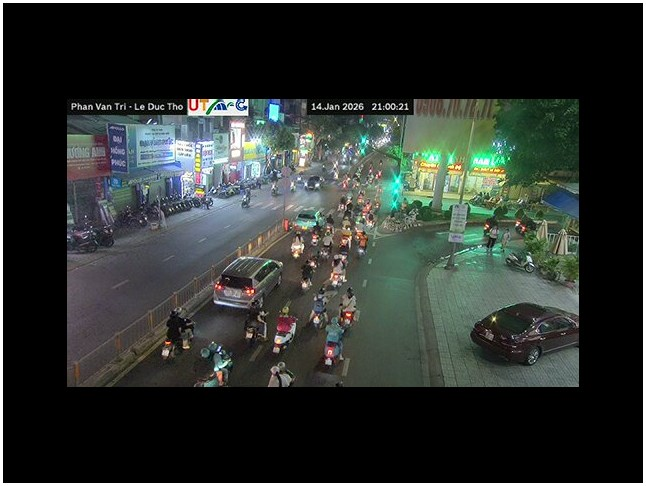car: (470, 302, 578, 365), (211, 255, 284, 310), (294, 207, 325, 231)
motorbike: (194, 340, 234, 387), (70, 219, 114, 252)
